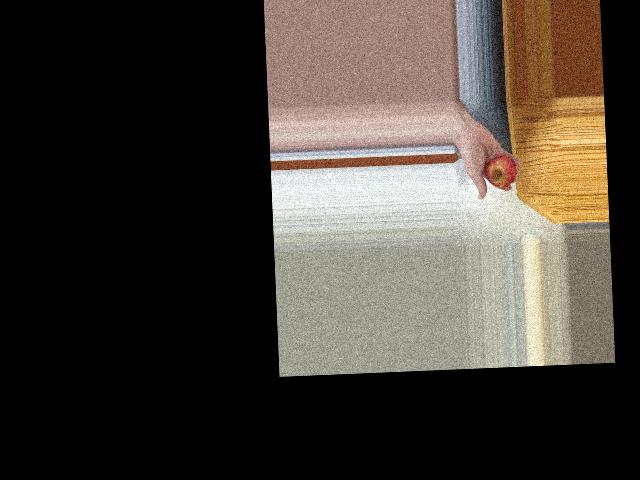apple: (480, 142, 519, 192)
